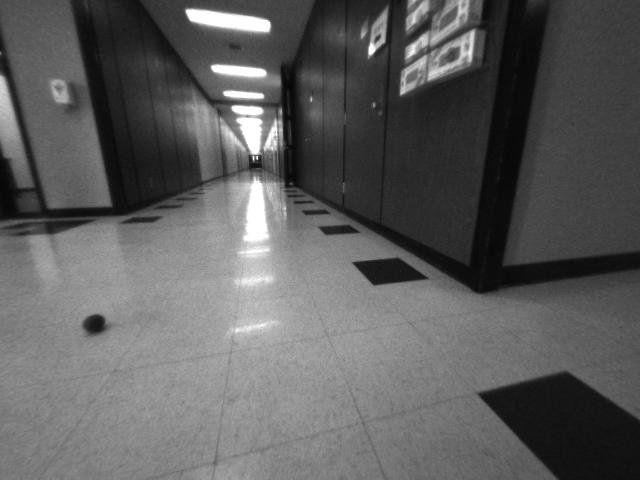dogtoy: (74, 305, 113, 339)
